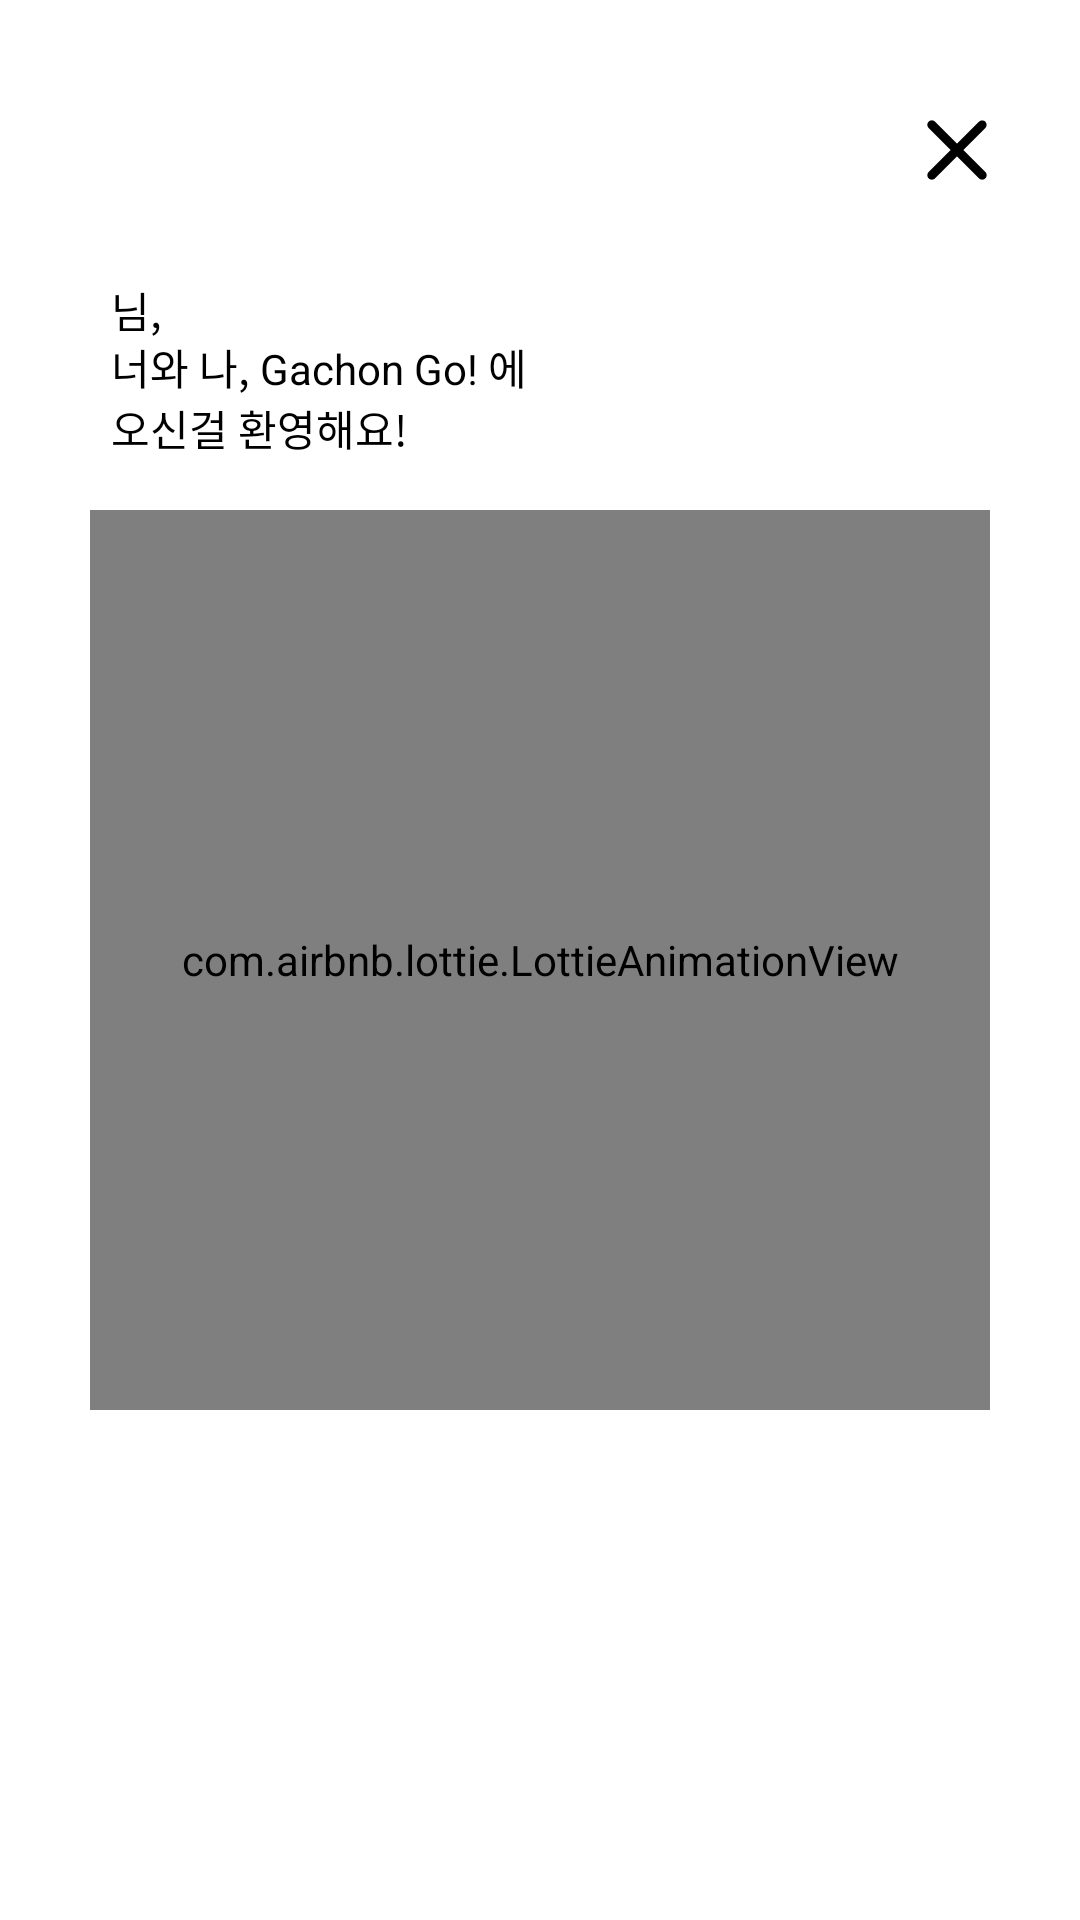

Locate icon controls on the screen. Image size 1080 x 1920, boxes as (left=x1, top=y1, right=x2, bottom=y2).
close: (left=927, top=120, right=987, bottom=180)
